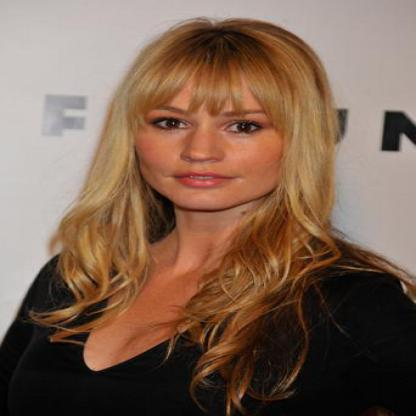long-hair: (77, 207, 339, 265)
